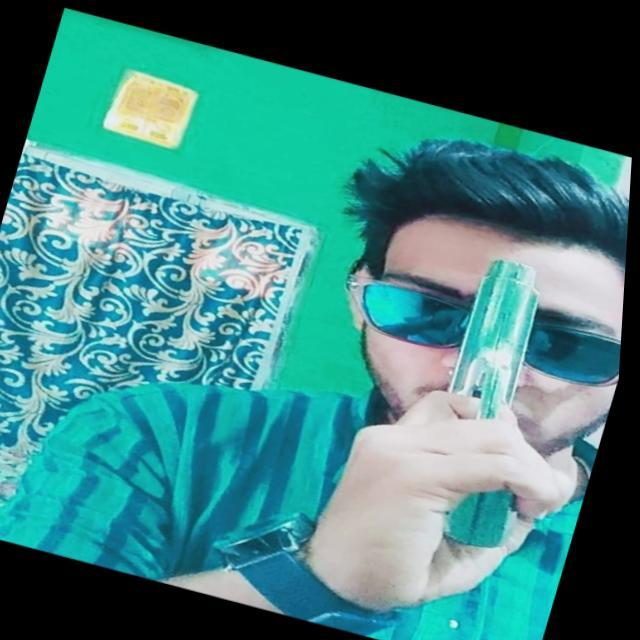weapon: (382, 240, 600, 559)
